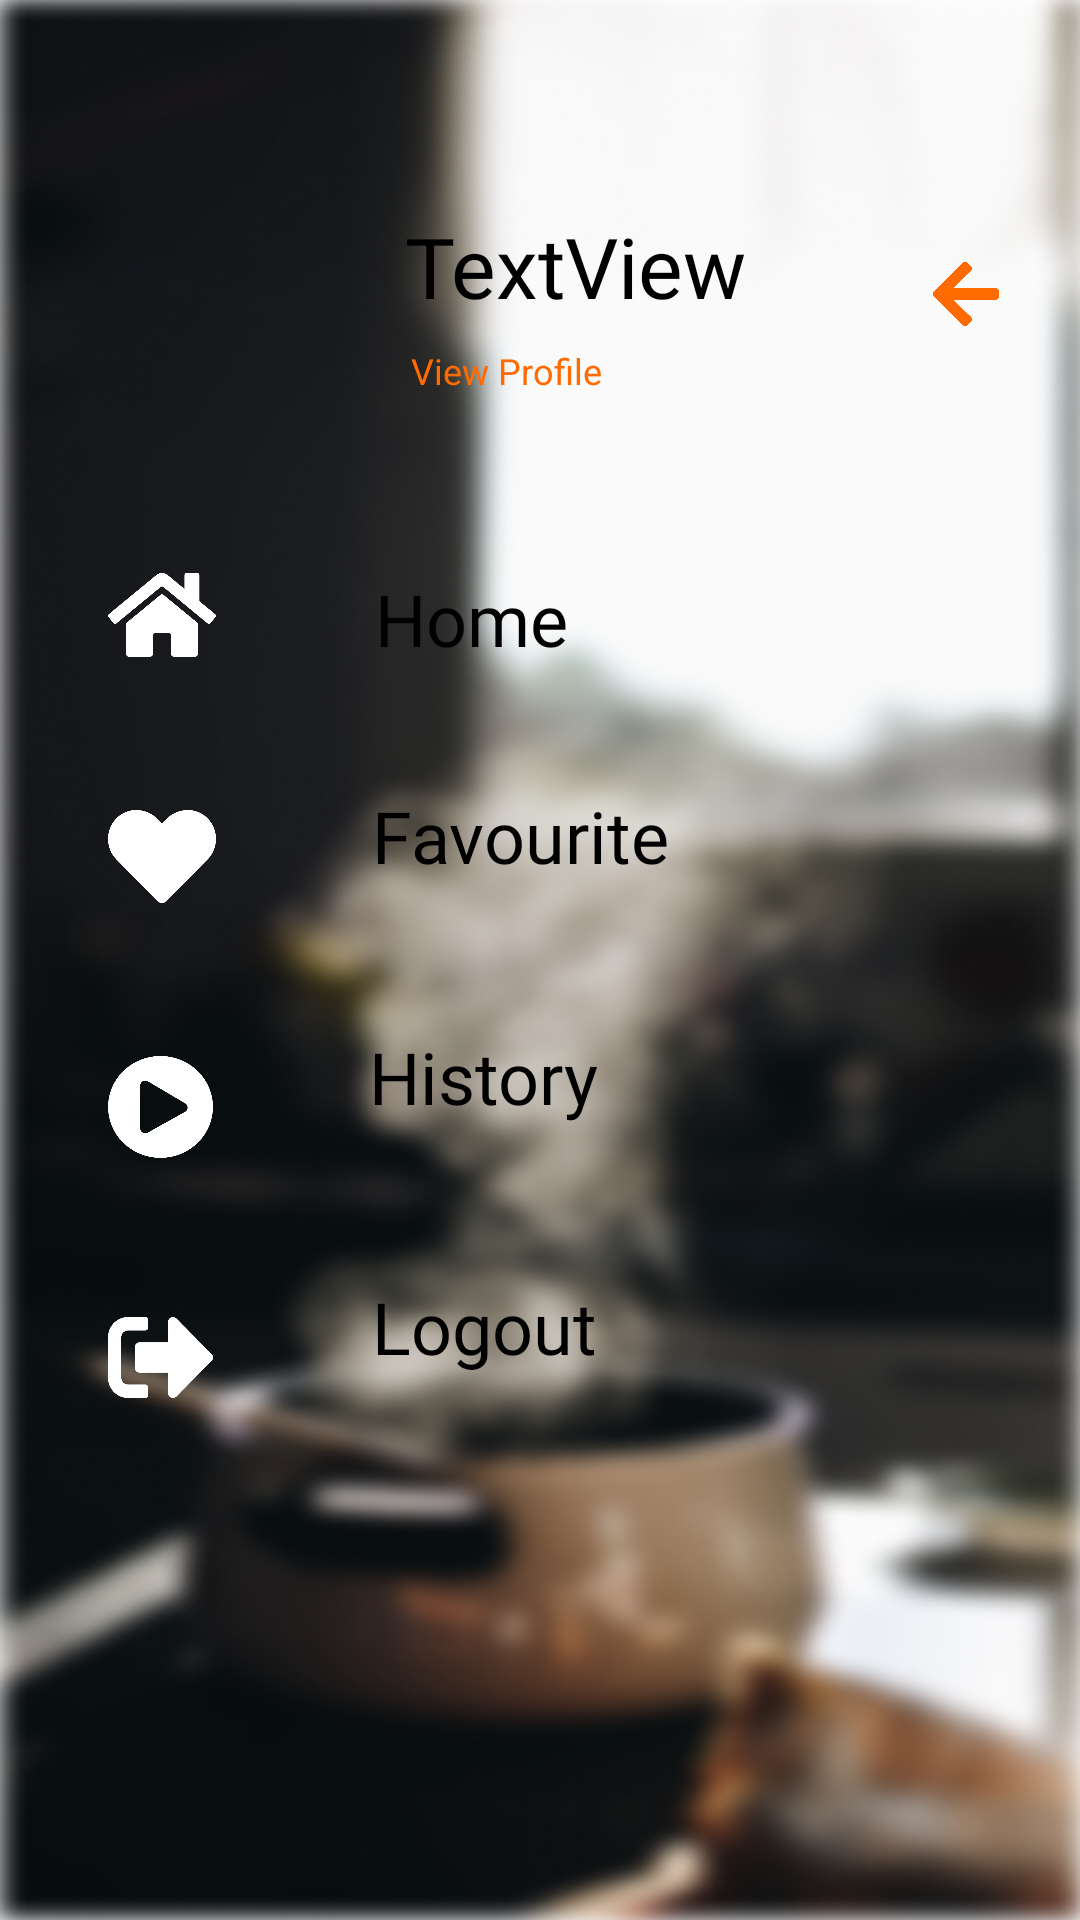

Named icons in this screenshot (1080px×1920px) and their bounding boxes, BBox(x1, y1, x2, y2):
back: BBox(933, 262, 999, 326)
favwhite: BBox(108, 810, 216, 903)
home: BBox(108, 573, 216, 657)
